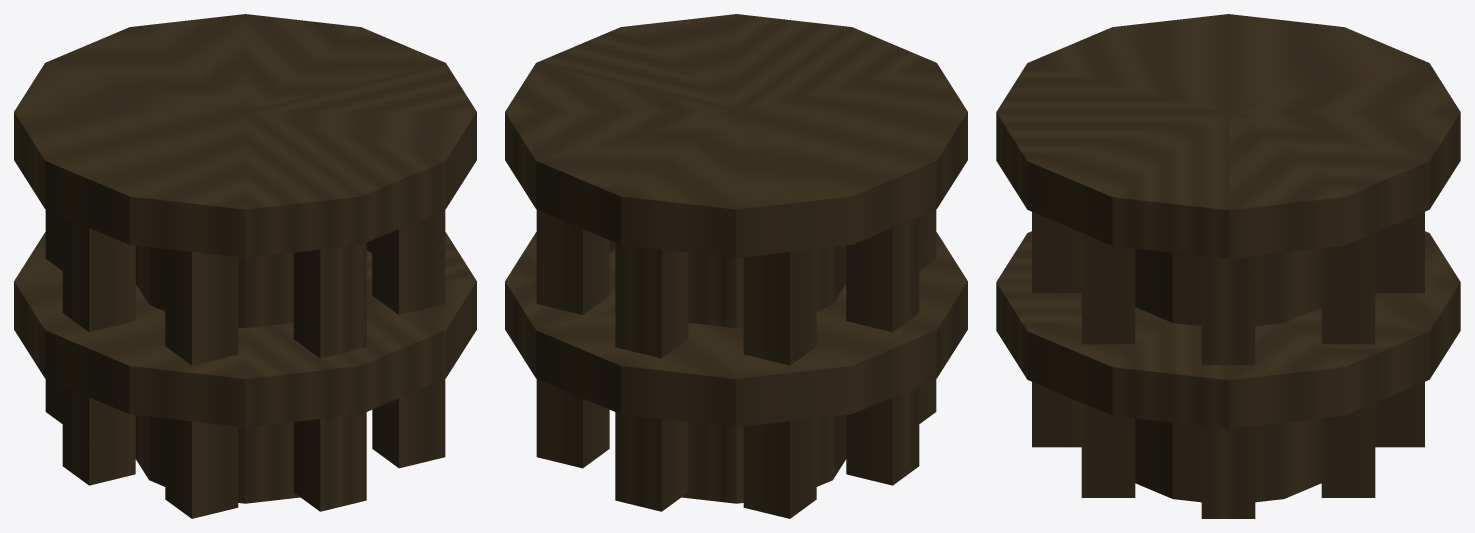
The model's file is prop_cable_spool_wood_a.glb.
3 renders of one model, left to right at view 1: azimuth 30°, elevation 25°; view 2: azimuth 150°, elevation 25°; view 3: azimuth 270°, elevation 25°, orthographic.
Parts seen in each view (by area): view 1: prop_cable_spool_wood_a; view 2: prop_cable_spool_wood_a; view 3: prop_cable_spool_wood_a.
Part boxes in pixels (box(x1,y1,x2,y2)): prop_cable_spool_wood_a: box(14, 14, 476, 518); prop_cable_spool_wood_a: box(505, 14, 967, 518); prop_cable_spool_wood_a: box(996, 14, 1460, 518).
Bounding box in the file's own units: 1.04 × 0.855 × 1.04.
Materials: 1 (1 with a texture image).
